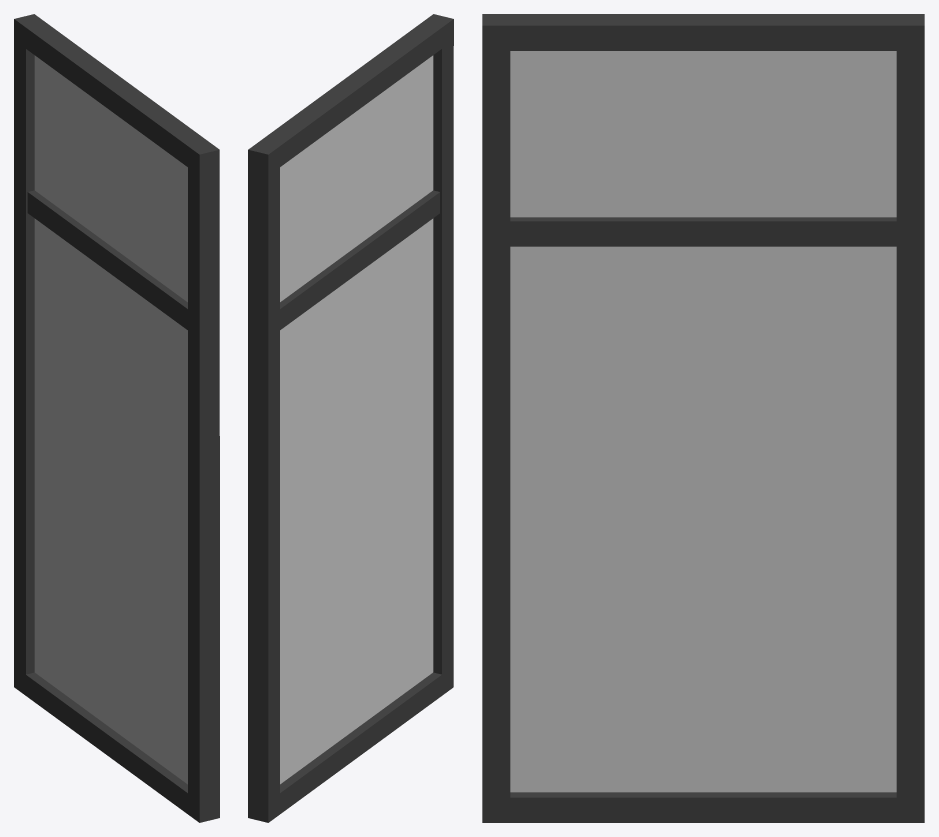
File: Seperator21.fbx
3 views of the same model, side by side, from view 1: azimuth 30°, elevation 25°; view 2: azimuth 150°, elevation 25°; view 3: azimuth 270°, elevation 25° (orthographic). The views are drawn at different scales.
Visible parts, largest first — view 1: Seperator21; view 2: Seperator21; view 3: Seperator21.
Boxes of the visible parts, <box> form: Seperator21: <box>14,14,219,822</box>; Seperator21: <box>248,14,453,822</box>; Seperator21: <box>482,14,924,822</box>.
Size of the model in its own units: 0.0501 by 0.7923 by 1.58.
